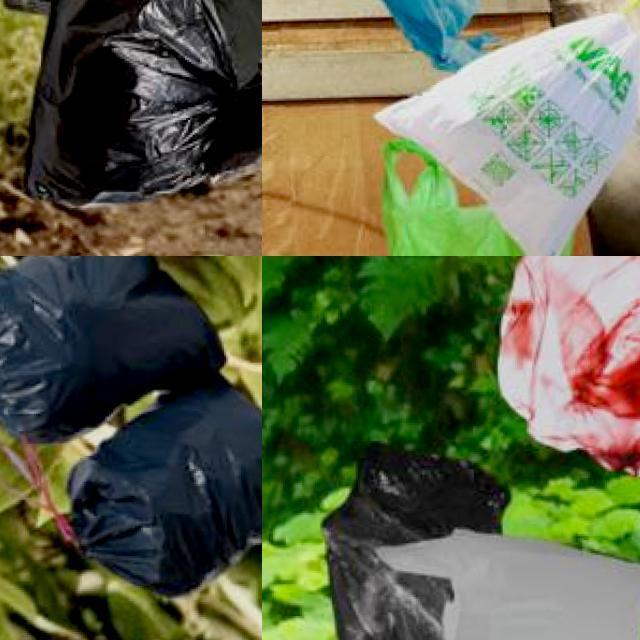waste: (387, 14, 640, 256), (22, 0, 262, 200), (75, 369, 262, 591), (0, 256, 224, 433), (317, 443, 505, 640), (371, 532, 640, 640), (390, 146, 567, 256)
